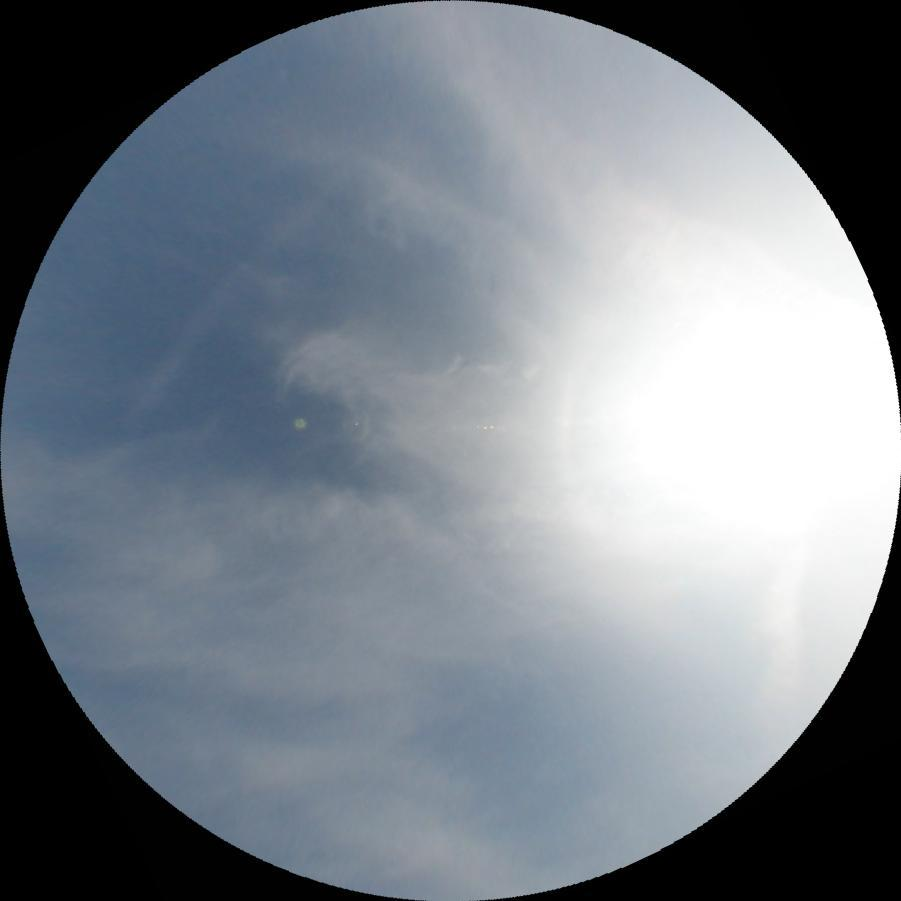contrail veryold: (126, 278, 236, 418), (755, 554, 813, 738)
sun: (601, 286, 859, 543)
